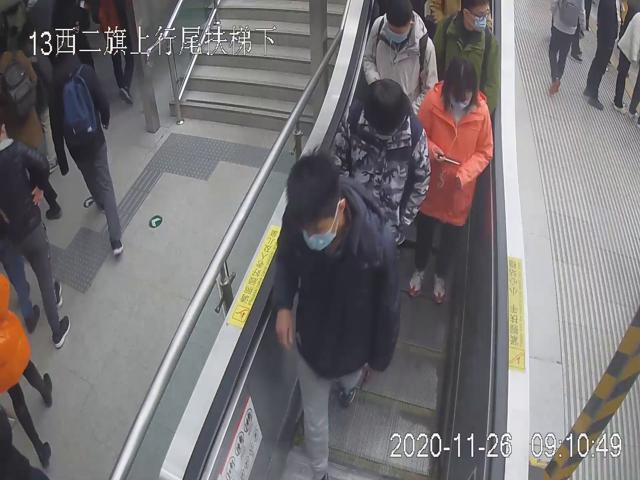person: (272, 145, 400, 480), (407, 55, 495, 305), (329, 77, 432, 238), (360, 0, 439, 116), (427, 0, 502, 117)
